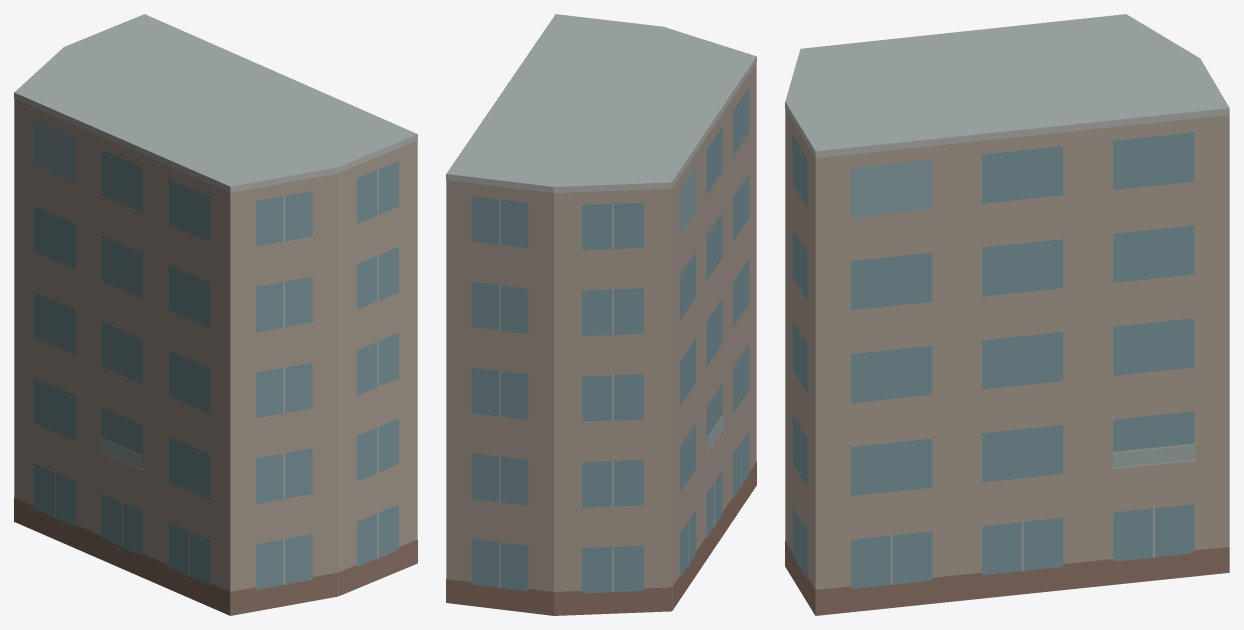
Rendered from survey-upis-32892791.glb.
The picture shows the model from 3 angles, left to right: view 1: azimuth 30°, elevation 25°; view 2: azimuth 150°, elevation 25°; view 3: azimuth 270°, elevation 25°; orthographic projection. The views are drawn at different scales.
Parts seen in each view (by area): view 1: survey-upis-32892791.tmp; view 2: survey-upis-32892791.tmp; view 3: survey-upis-32892791.tmp.
Boxes of the visible parts, x1,y1,x2,y2 form: survey-upis-32892791.tmp: (14,14,417,615); survey-upis-32892791.tmp: (446,14,756,615); survey-upis-32892791.tmp: (785,14,1229,615).
Bounding box in the file's own units: 10.6 × 16.7 × 14.49.
